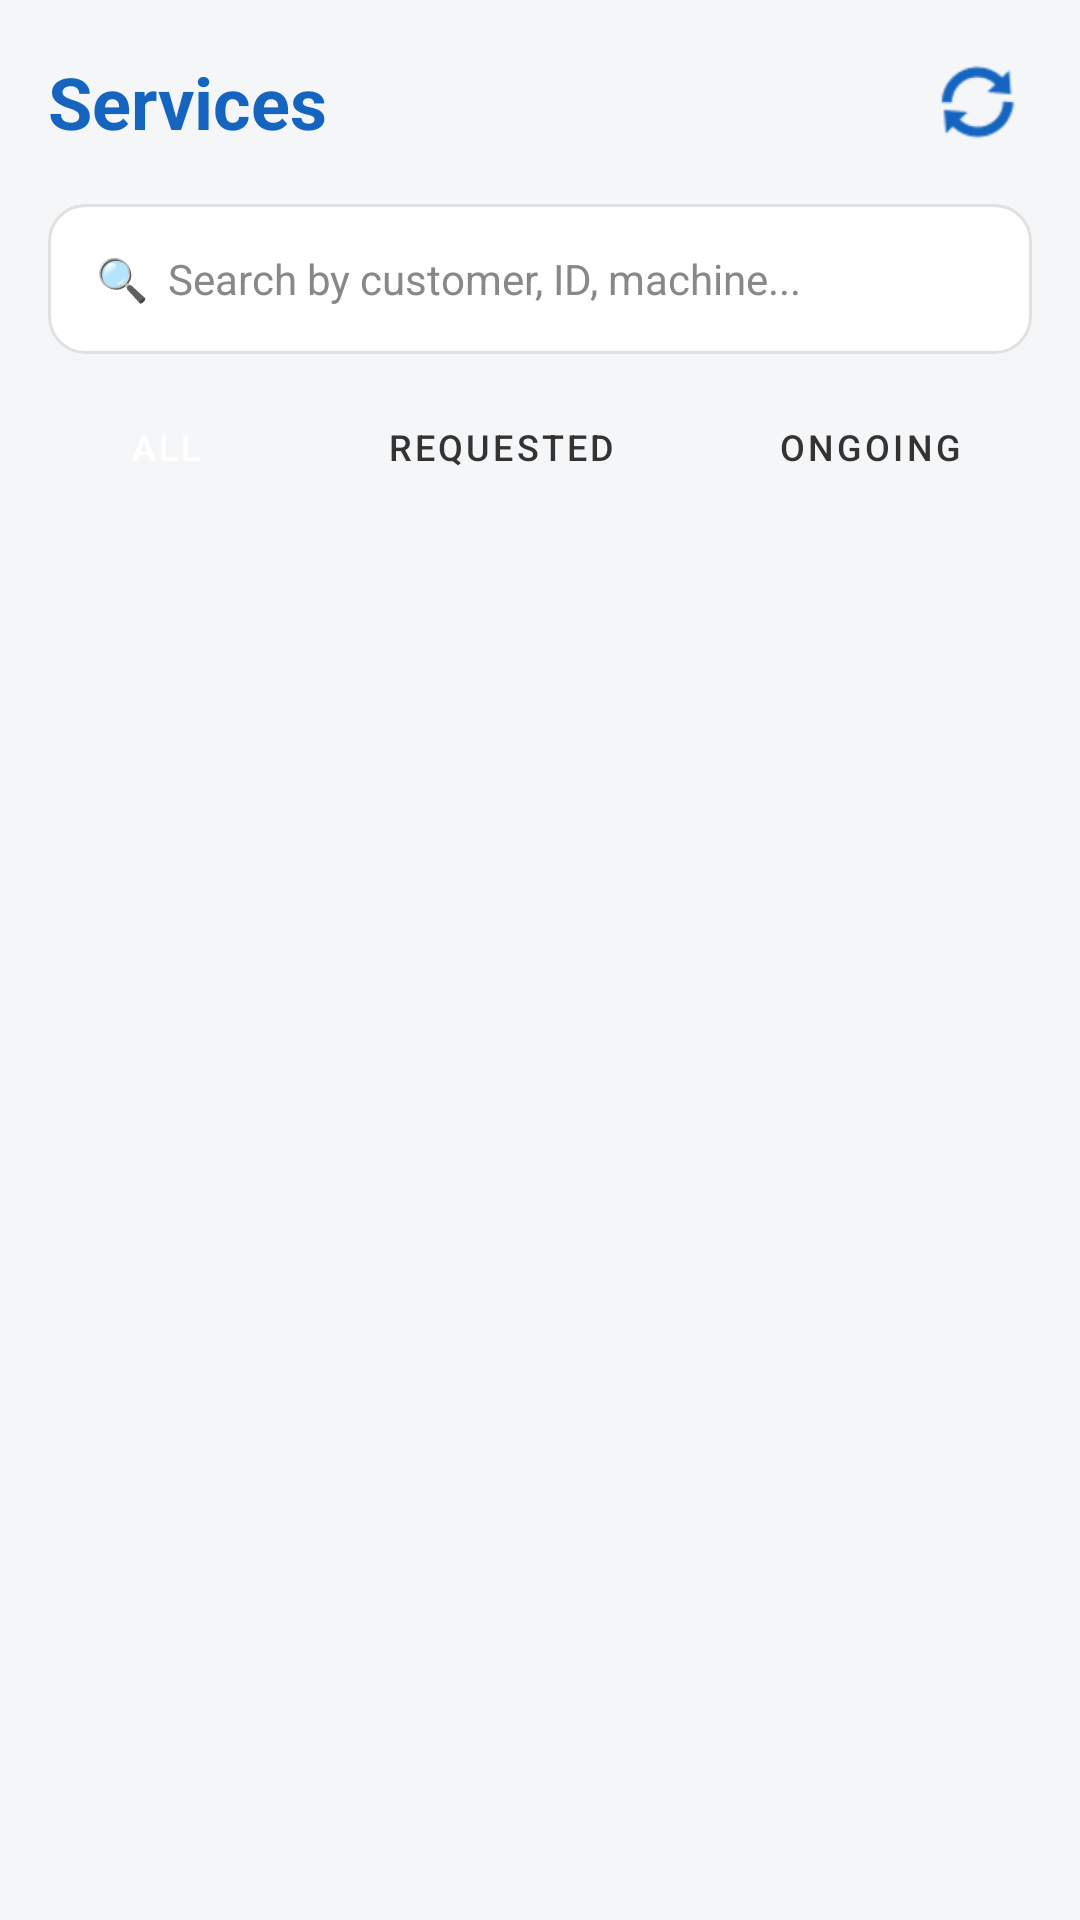

Icon click points for this 1080x1920 phone screenshot, format [x,y]:
popup sync: [978,102]
